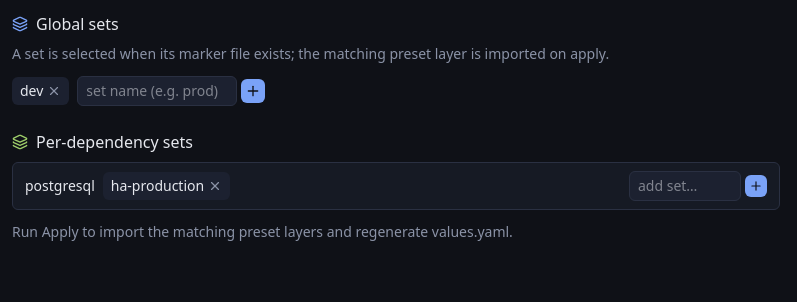
Test: SetsTab › surfaces a rejected set name
The image size is (797, 302).
Expected: the text "dev" is shown, 12,77 -> 69,105
Type "../evil" into the field with placeholder "set name (e.g. prod)" at (157, 91), box 77,76 -> 237,106
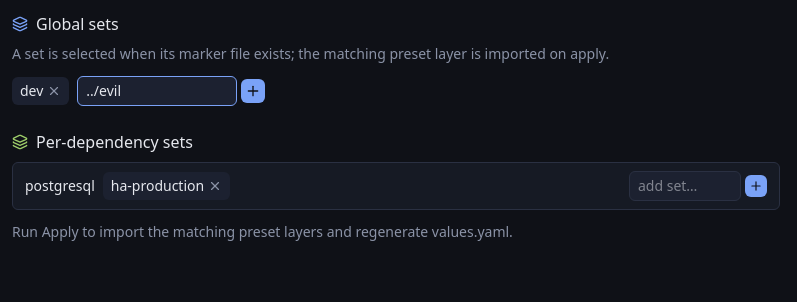
Click the button titled "Enable set" at (253, 91), box 241,79 -> 265,103
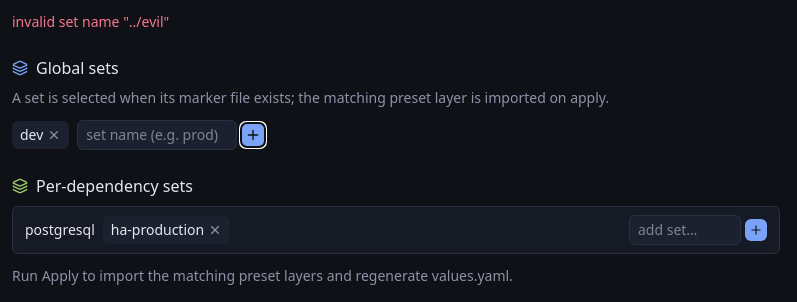
Expected: the text "invalid set name \"../evil\"" is shown, 12,12 -> 169,31
